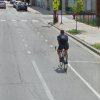Bicycle: (54, 44, 69, 73)
